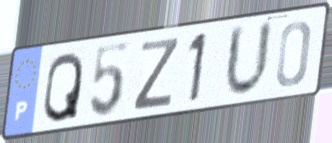0: (274, 19, 314, 89)
1: (187, 29, 210, 106)
5: (88, 39, 134, 120)
Q: (41, 49, 85, 125)
U: (222, 17, 275, 101)
Z: (130, 35, 182, 113)
